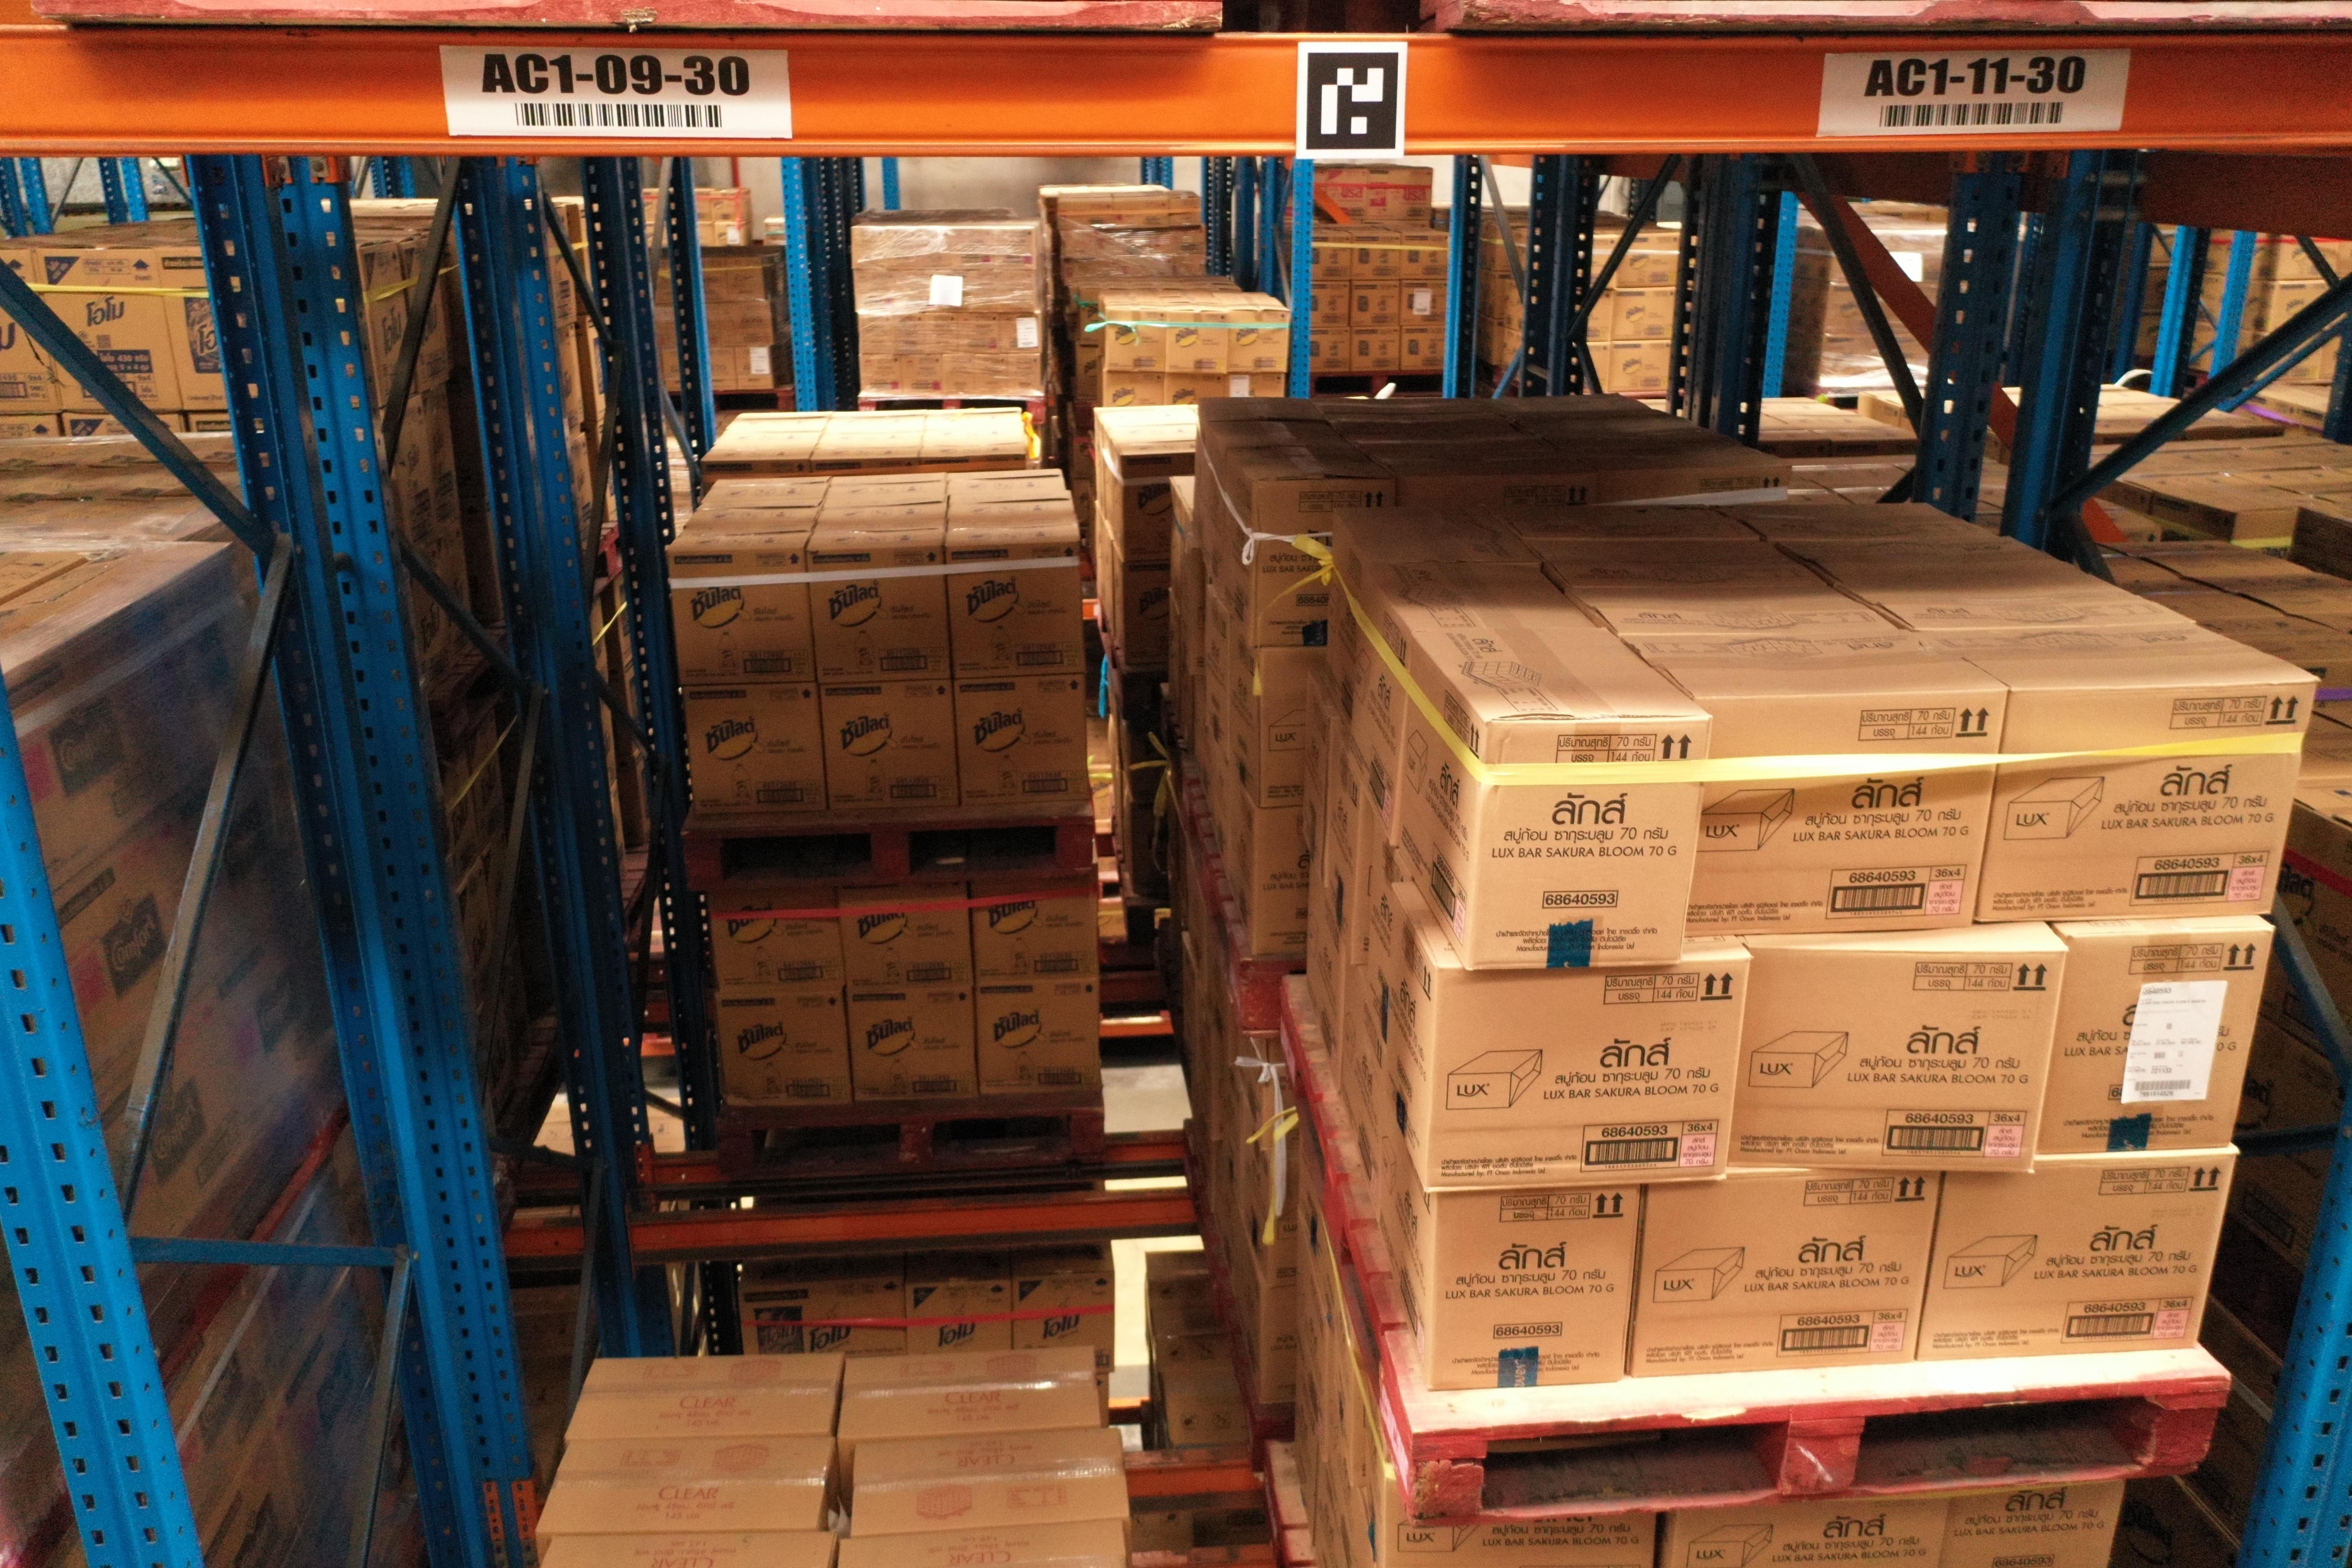-: (1976, 677, 2315, 924), (1683, 689, 2007, 936), (1732, 945, 2067, 1178), (1424, 959, 1753, 1195), (1914, 1153, 2236, 1368), (1631, 1171, 1948, 1377), (1470, 717, 1711, 971), (2039, 931, 2273, 1153), (1431, 1185, 1643, 1391), (1386, 1479, 1657, 1568), (1659, 1498, 1951, 1568), (1941, 1482, 2123, 1568)
2: (28, 245, 182, 413), (805, 544, 952, 688), (667, 548, 815, 688), (943, 537, 1087, 681), (682, 684, 828, 819), (821, 681, 957, 812), (954, 679, 1088, 805), (843, 989, 980, 1106), (719, 994, 852, 1108), (836, 884, 975, 992), (973, 983, 1099, 1102), (969, 878, 1099, 987), (709, 892, 843, 996), (744, 1276, 908, 1358), (1011, 1276, 1115, 1377), (906, 1279, 1010, 1360)
